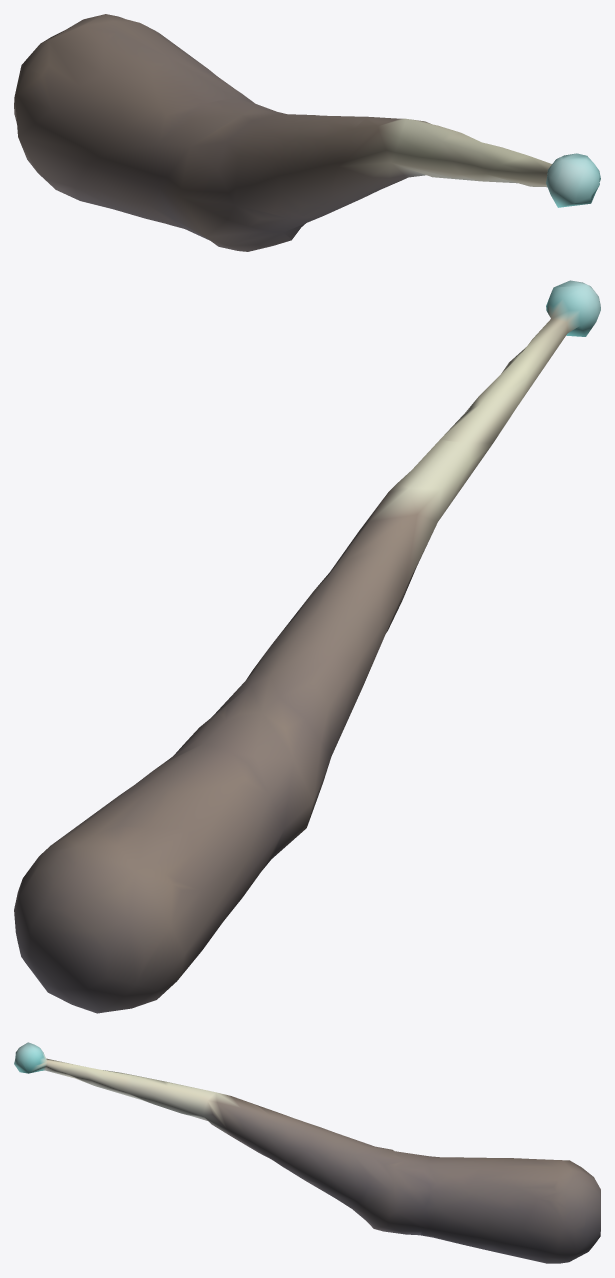
File: hound_tail.glb
3 renders of one model, top to bottom at view 1: azimuth 30°, elevation 25°; view 2: azimuth 150°, elevation 25°; view 3: azimuth 270°, elevation 25°, orthographic. The views are drawn at different scales.
Parts seen in each view (by area): view 1: geometry_0; view 2: geometry_0; view 3: geometry_0.
Part boxes in pixels (<box>): geometry_0: <box>14,14,600,251</box>; geometry_0: <box>14,280,600,1013</box>; geometry_0: <box>14,1042,600,1263</box>.
Size of the model in its own units: 0.2045 by 0.4509 by 1.12.
